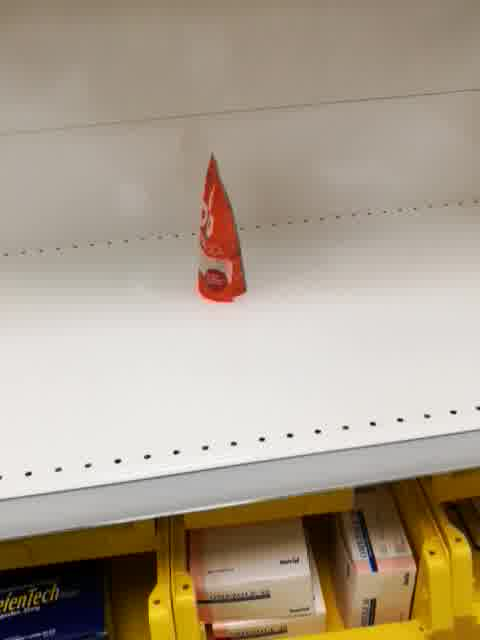whitechia: (194, 152, 251, 303)
